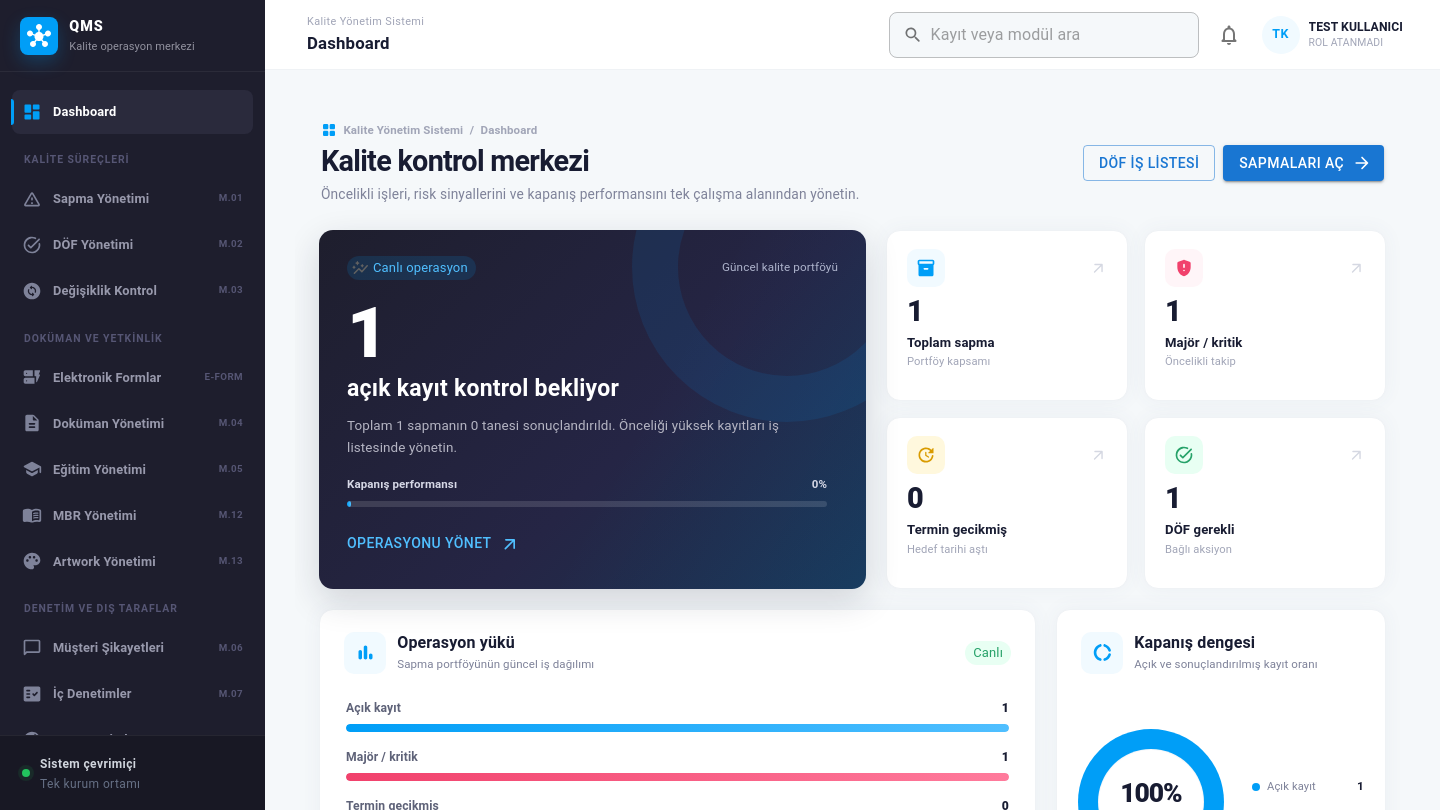
Test: App › opens the deviation lifecycle details from the work list
Click the link "Sapma Yönetimi M.01".
click(132, 199)  # box [22,189,243,209]
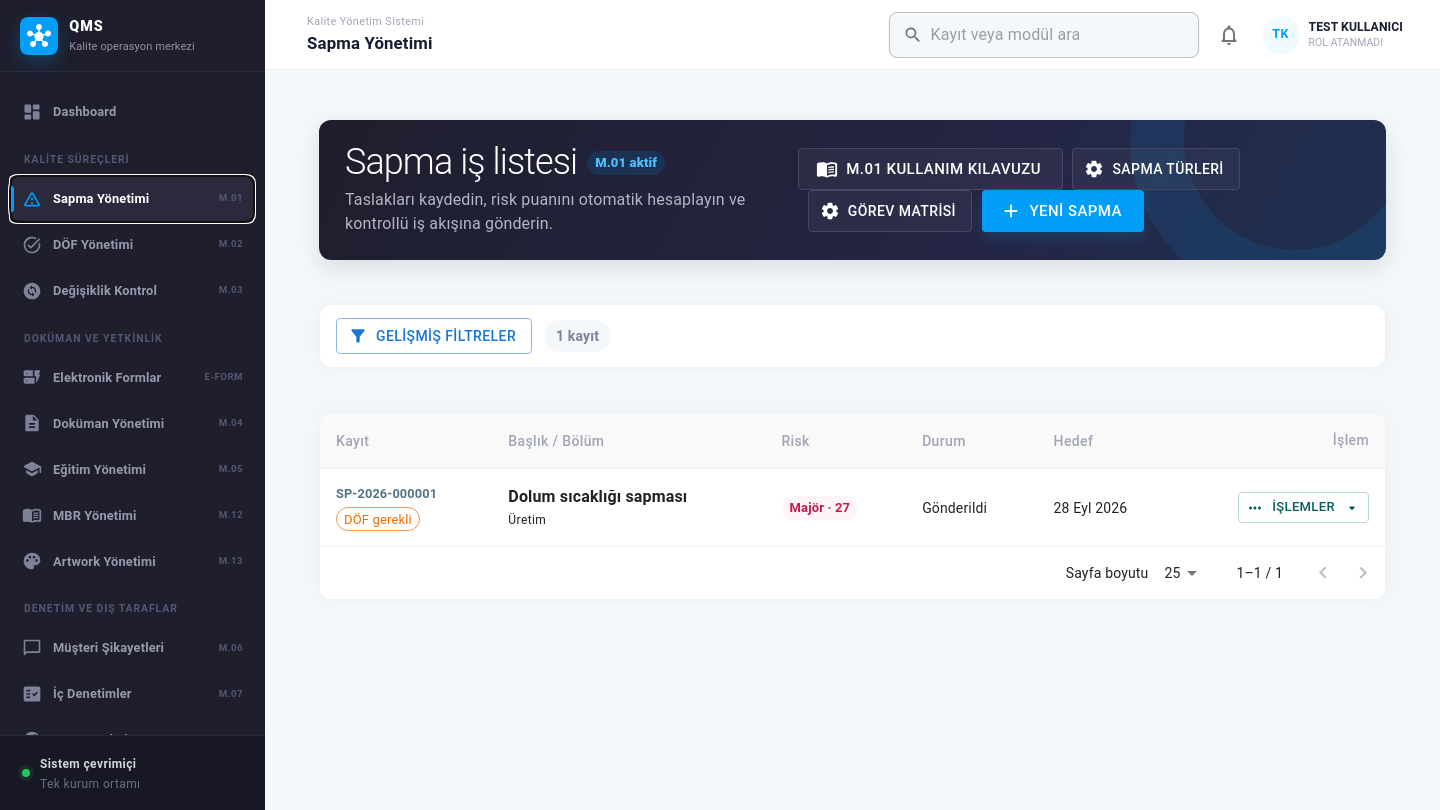
Click the button "İşlemler".
click(1304, 508)  # box [1238,492,1369,523]
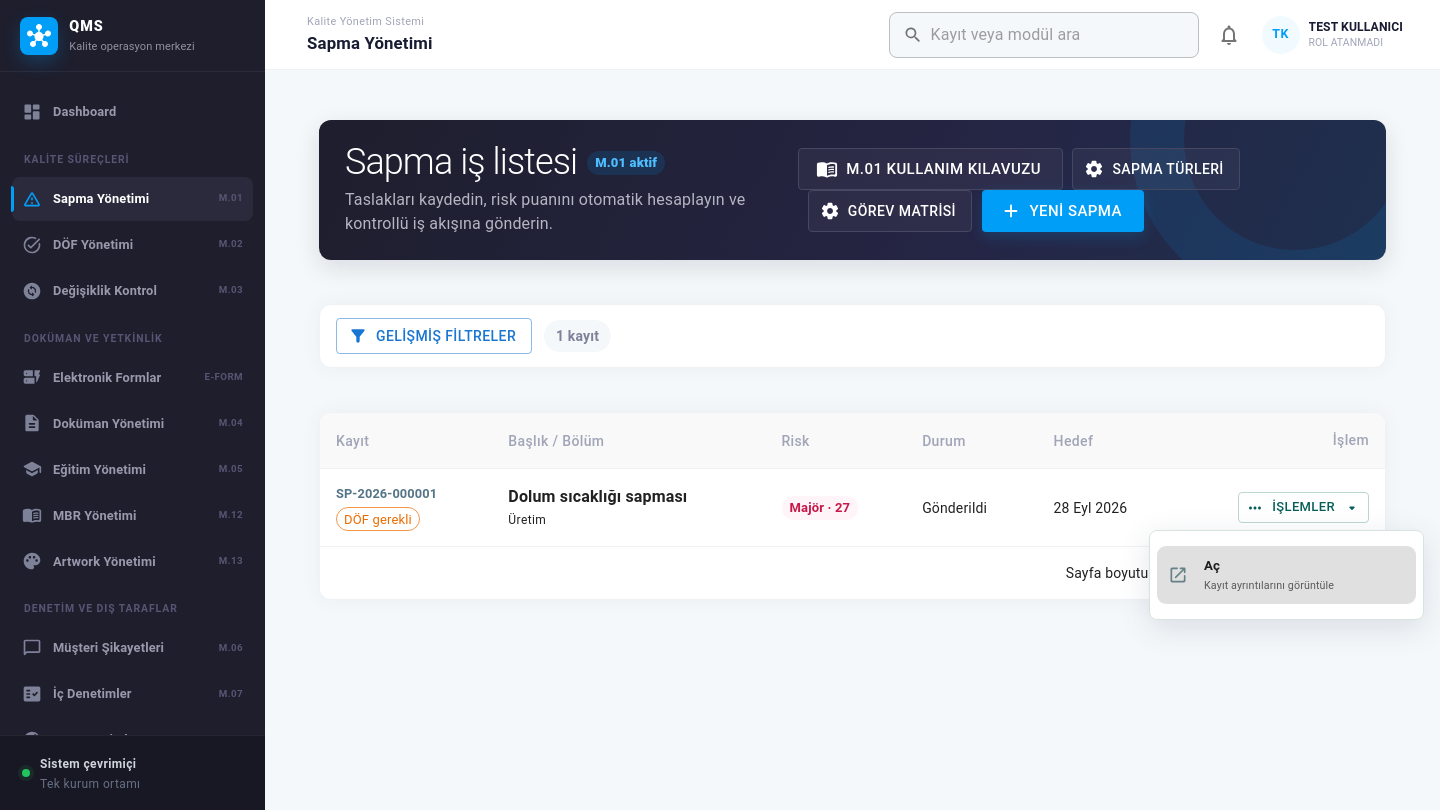
Click the menu item "Aç Kayıt ayrıntılarını görüntüle".
click(1286, 575)  # box [1157,546,1416,604]
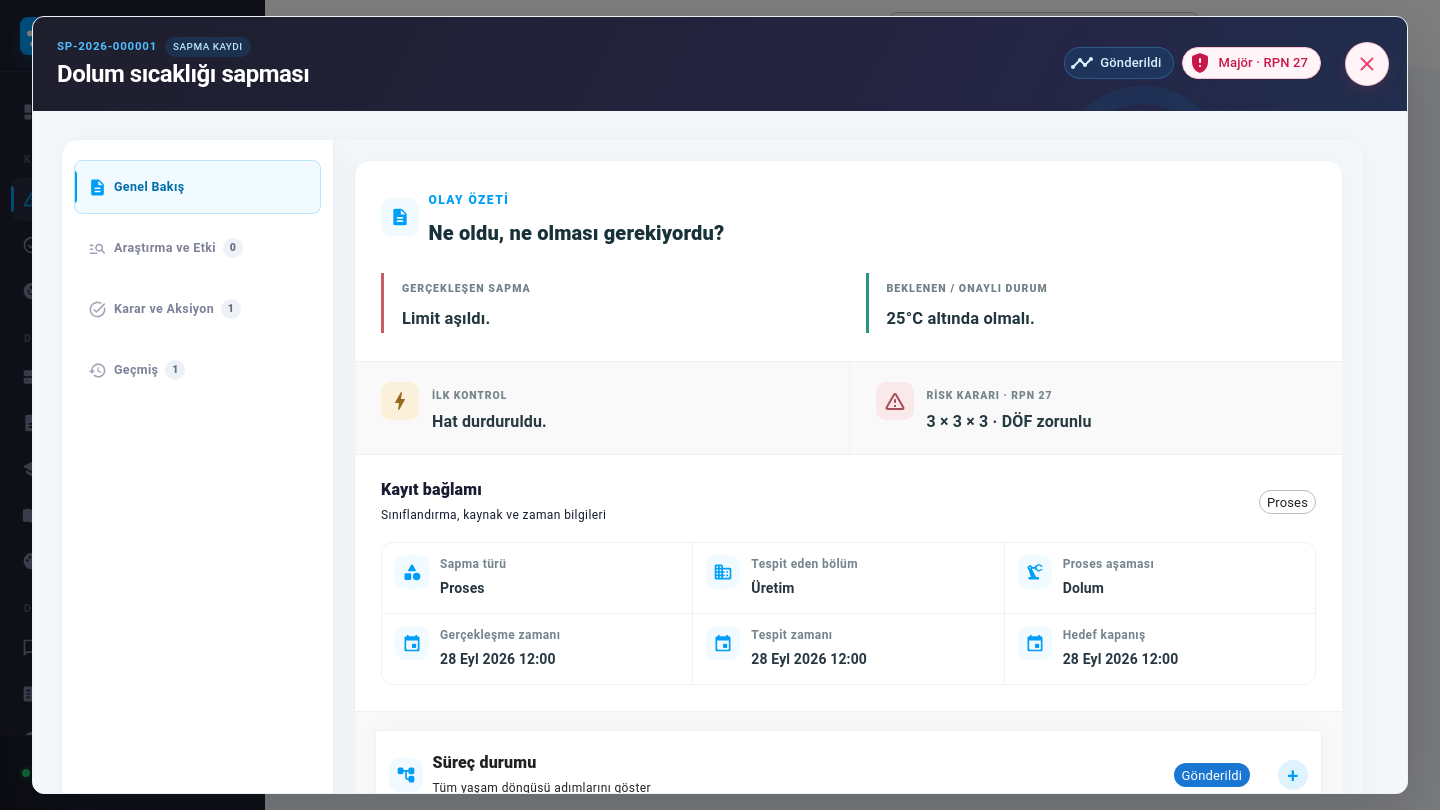
Check: the button named "Sapma ayrıntısını kapat" is shown, box [1345,42,1389,86]
Check: the element named "Sapma detay bölümleri" is shown, box [74,160,321,404]
Check: the text "Süreç durumu" is shown, box [433,754,536,772]
Click the tab "Karar ve Aksiyon 1".
click(198, 309)  # box [74,282,321,336]
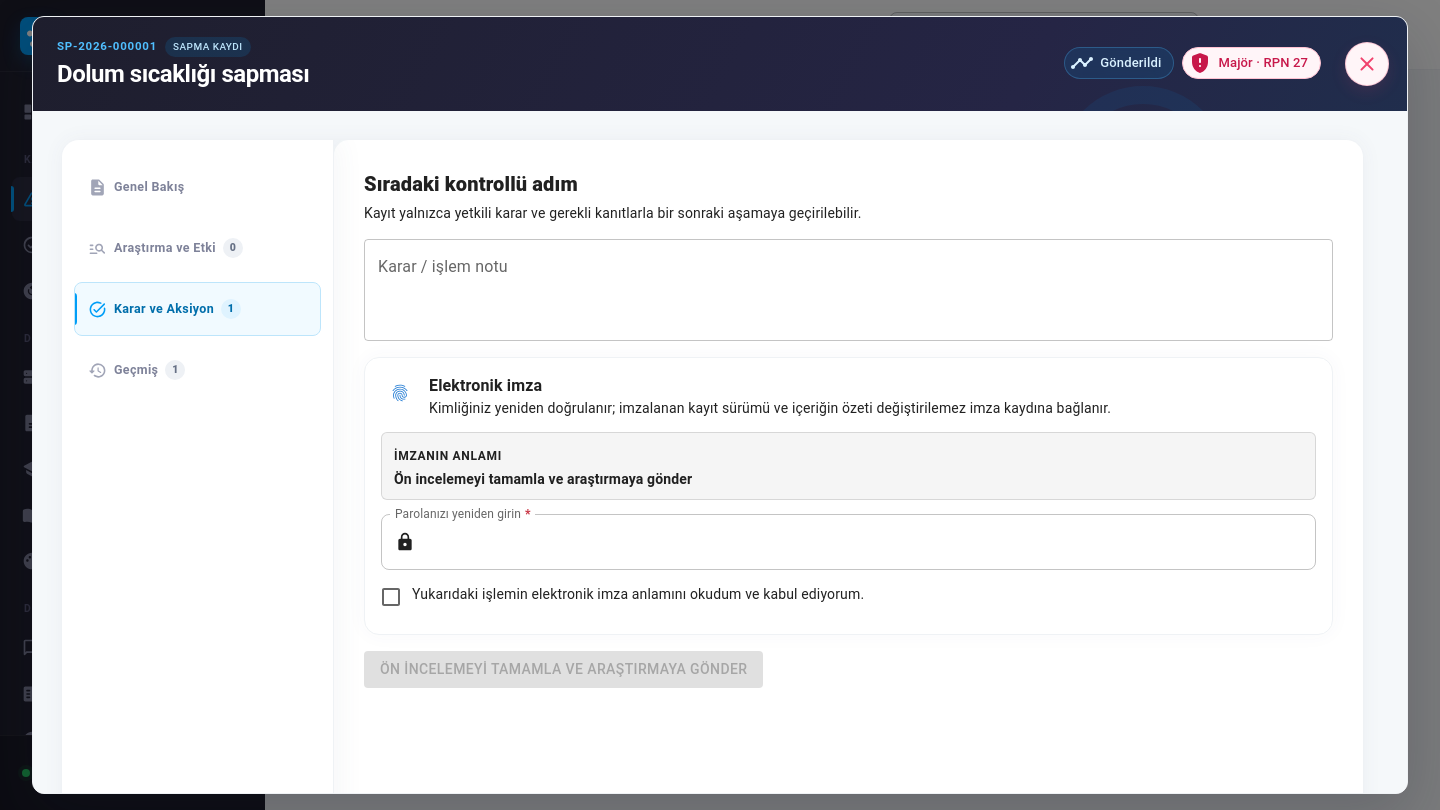
Check: the heading "Sıradaki kontrollü adım" is shown, box [364,172,578,196]
Click the tab "Geçmiş 1".
click(198, 370)  # box [74,343,321,397]
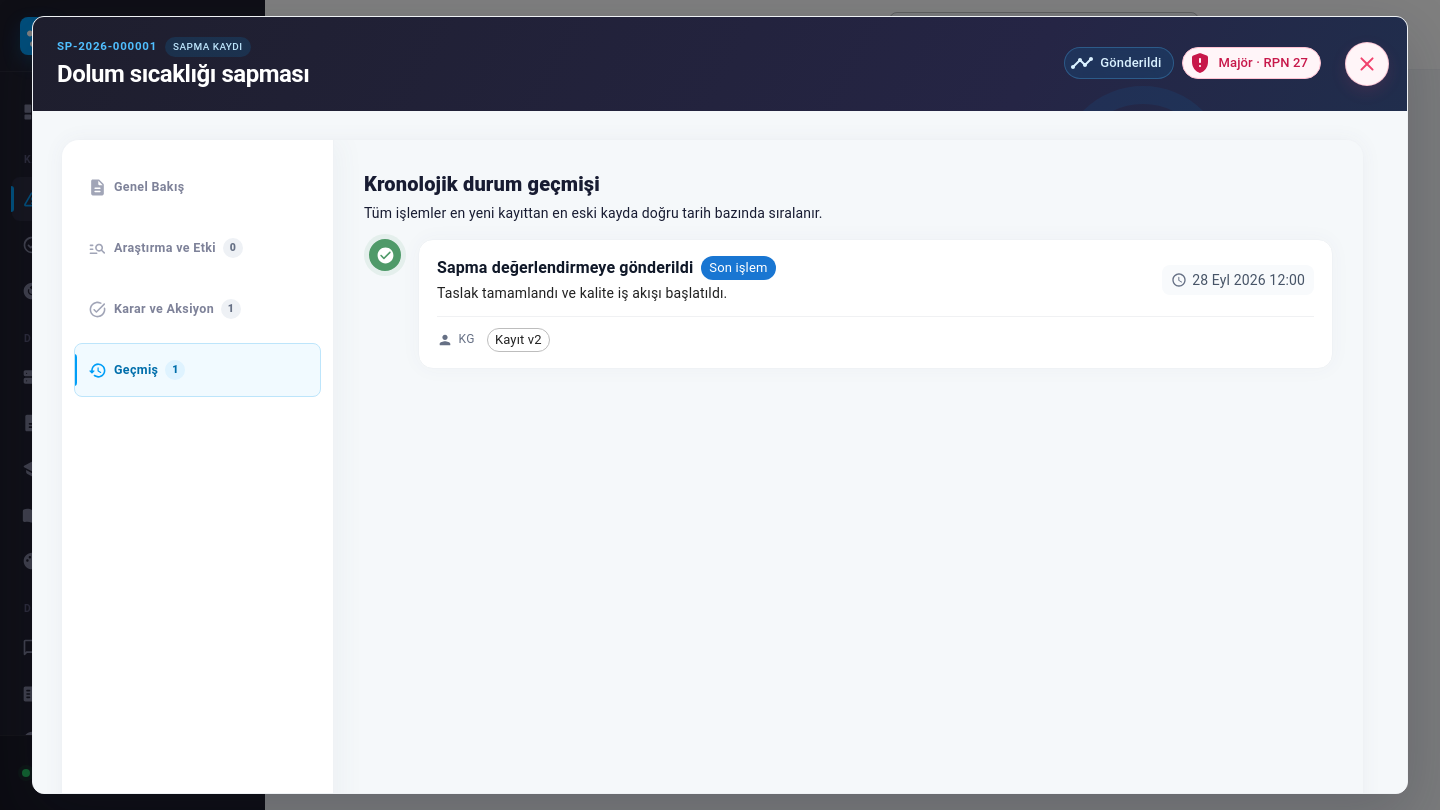
Check: the element named "Kronolojik durum geçmişi" is shown, box [364,239,1333,385]
Check: the text "Sapma değerlendirmeye gönderildi" is shown, box [437,256,693,280]
